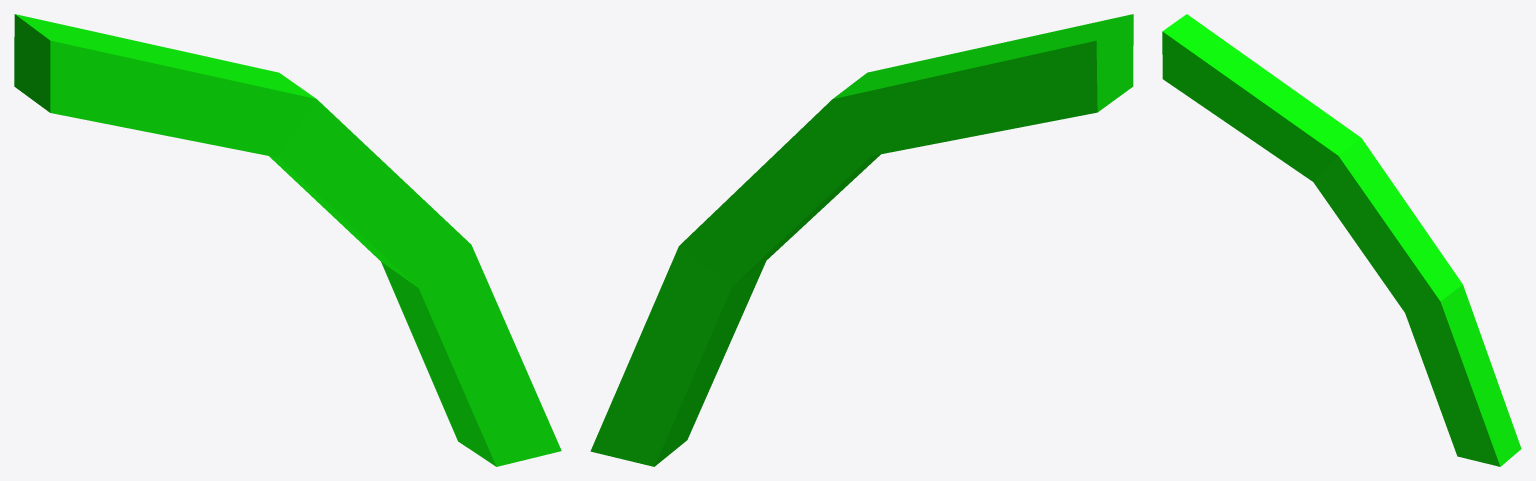
Rendered from SM_Wall_Beam_Bend_Out_B_2x2m.fbx.
The picture shows the model from 3 angles, left to right: view 1: azimuth 30°, elevation 25°; view 2: azimuth 150°, elevation 25°; view 3: azimuth 330°, elevation 25°; orthographic projection. The views are drawn at different scales.
Parts seen in each view (by area): view 1: wall-beam-bend-out-b-2x2m; view 2: wall-beam-bend-out-b-2x2m; view 3: wall-beam-bend-out-b-2x2m.
Part boxes in pixels (left/top/right/bottom): wall-beam-bend-out-b-2x2m: left=14, top=14, right=561, bottom=466; wall-beam-bend-out-b-2x2m: left=590, top=14, right=1133, bottom=466; wall-beam-bend-out-b-2x2m: left=1162, top=14, right=1521, bottom=466.
Size of the model in its own units: 2 by 2 by 0.2481.
